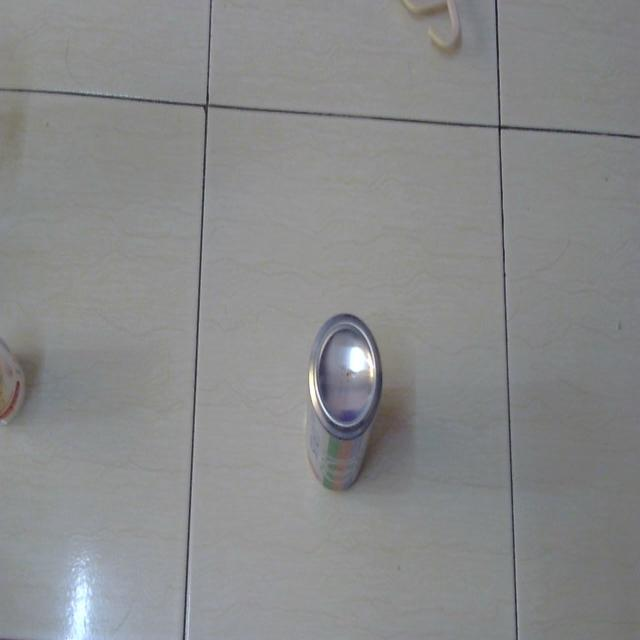metal_standrotation: (302, 302, 384, 492)
